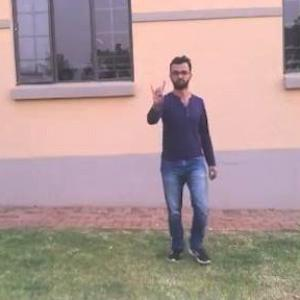takeoff-hand: (144, 75, 173, 110)
